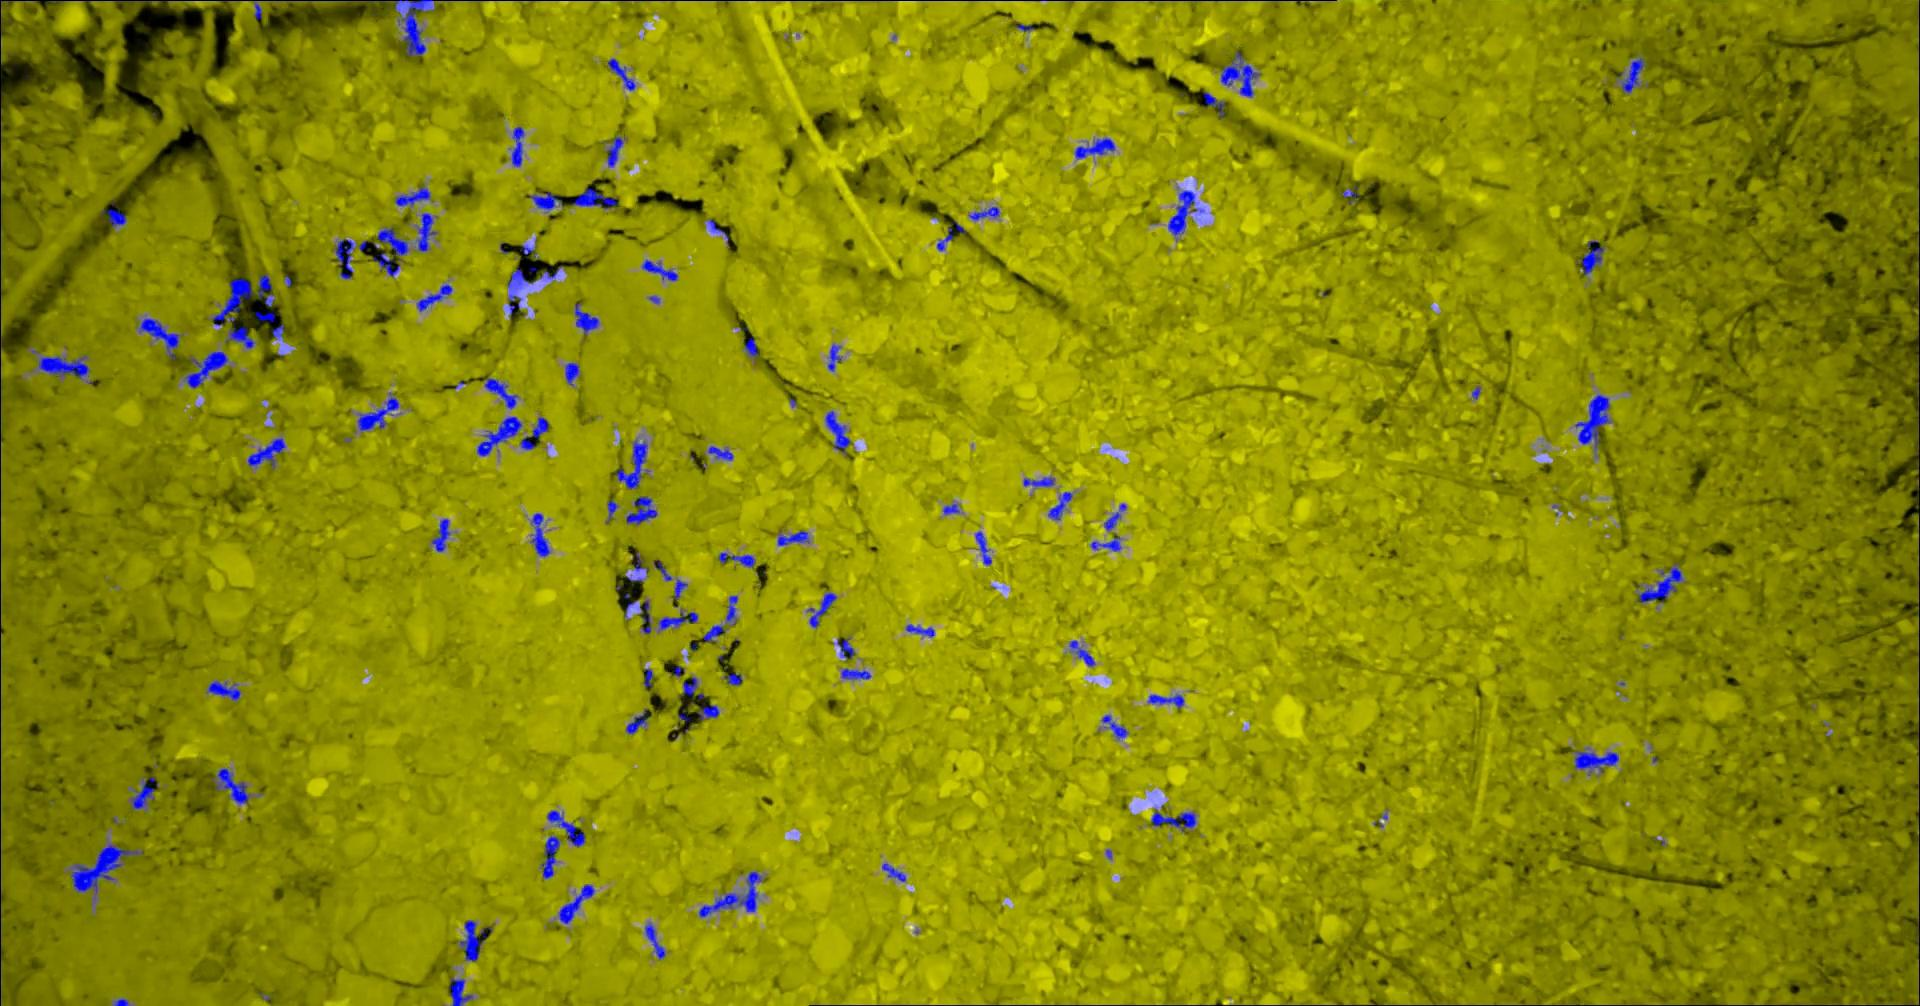ant: (340, 0, 434, 55), (698, 871, 761, 917), (1575, 394, 1609, 450), (211, 278, 251, 325), (1220, 50, 1260, 97), (138, 318, 182, 359), (1638, 561, 1683, 602), (476, 417, 521, 455), (183, 351, 227, 387), (38, 354, 93, 384), (1167, 191, 1203, 235), (616, 439, 648, 489), (357, 392, 397, 431), (557, 884, 594, 923), (653, 559, 687, 600), (458, 920, 491, 962), (546, 810, 584, 846), (507, 268, 532, 319), (215, 768, 249, 804), (248, 437, 284, 467), (825, 410, 850, 455), (376, 227, 408, 260), (806, 592, 836, 627), (1150, 808, 1195, 831), (571, 187, 618, 208), (484, 377, 517, 408), (1576, 240, 1604, 276), (1575, 751, 1618, 774), (417, 285, 452, 311), (519, 417, 549, 448), (936, 220, 965, 250), (626, 495, 657, 525), (607, 58, 635, 90), (538, 835, 559, 878), (658, 608, 697, 630), (530, 512, 549, 556), (335, 238, 356, 278), (1074, 137, 1114, 158), (415, 212, 436, 251), (574, 302, 598, 335), (1622, 57, 1644, 91), (644, 922, 665, 958), (130, 776, 154, 808), (394, 184, 430, 205), (641, 259, 677, 279), (206, 680, 240, 700), (1068, 640, 1095, 666), (1101, 714, 1128, 739), (1048, 492, 1072, 520), (223, 326, 254, 348), (100, 201, 126, 226), (372, 251, 399, 276), (625, 708, 649, 734), (450, 977, 472, 1005), (530, 191, 563, 210), (430, 518, 450, 551), (1103, 503, 1126, 530), (1203, 91, 1224, 118), (510, 126, 524, 166), (606, 135, 623, 166), (257, 273, 273, 306), (1090, 535, 1121, 551), (975, 530, 990, 564), (717, 553, 754, 567), (1147, 694, 1183, 708), (777, 530, 808, 545), (881, 862, 905, 882), (637, 600, 650, 633), (905, 622, 935, 636), (702, 624, 725, 641), (968, 206, 999, 218), (827, 343, 841, 371), (707, 445, 733, 460), (836, 636, 855, 657), (564, 362, 579, 385), (697, 702, 717, 719), (725, 594, 737, 624), (841, 668, 870, 680), (682, 676, 697, 697), (1023, 476, 1054, 486), (604, 499, 617, 523), (1341, 185, 1357, 203), (632, 553, 648, 572), (744, 337, 758, 357), (254, 310, 276, 323), (270, 323, 284, 339), (723, 673, 742, 685), (942, 503, 959, 514), (643, 668, 651, 687), (0, 890, 1, 945)
